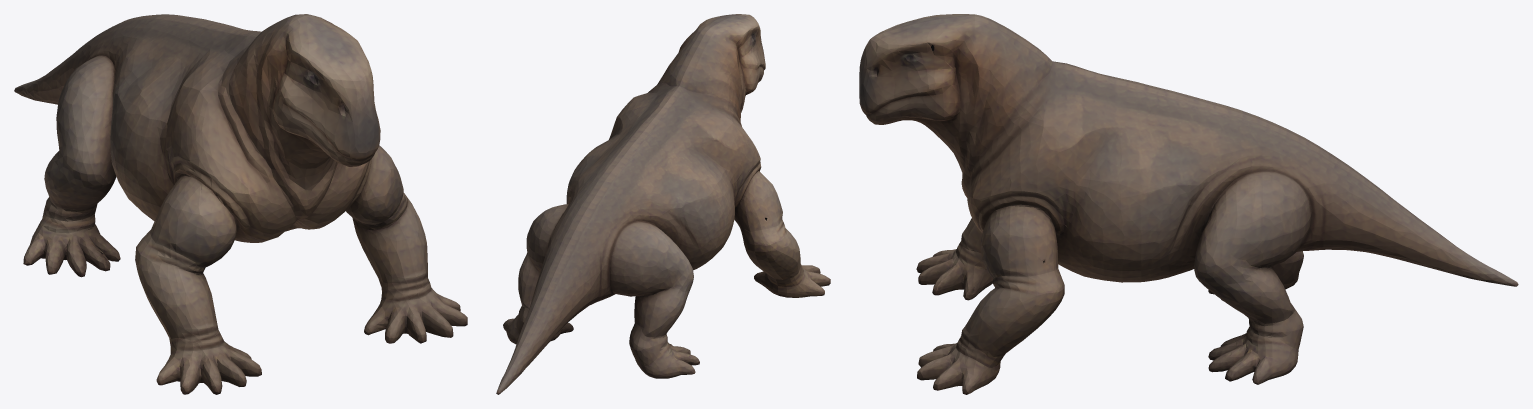
The picture shows the model from 3 angles, left to right: view 1: azimuth 30°, elevation 25°; view 2: azimuth 150°, elevation 25°; view 3: azimuth 270°, elevation 25°; orthographic projection. The views are drawn at different scales.
Visible parts, largest first — view 1: world; view 2: world; view 3: world.
Boxes of the visible parts, x1,y1,x2,y2 form: world: (14,14,467,394); world: (496,14,830,394); world: (859,14,1518,394).
Size of the model in its own units: 1.35 by 1.41 by 2.7.
Materials: 1 (1 with a texture image).
